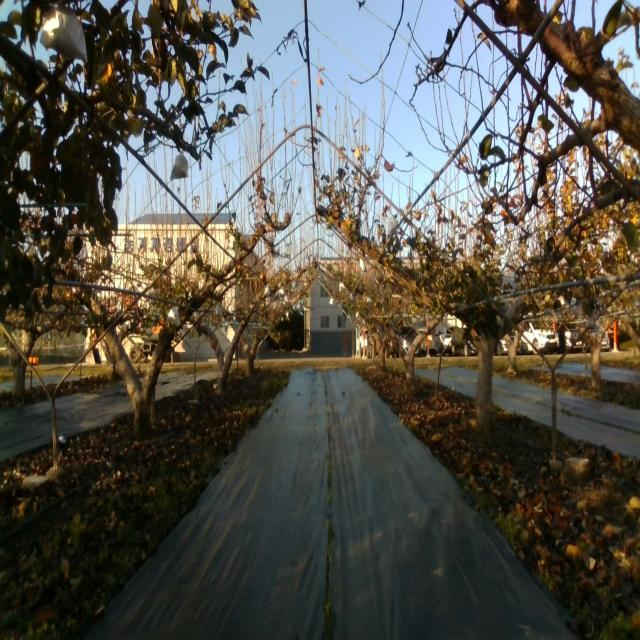pearbags: (39, 7, 89, 65), (170, 154, 190, 182), (386, 216, 398, 241), (166, 307, 180, 325)
